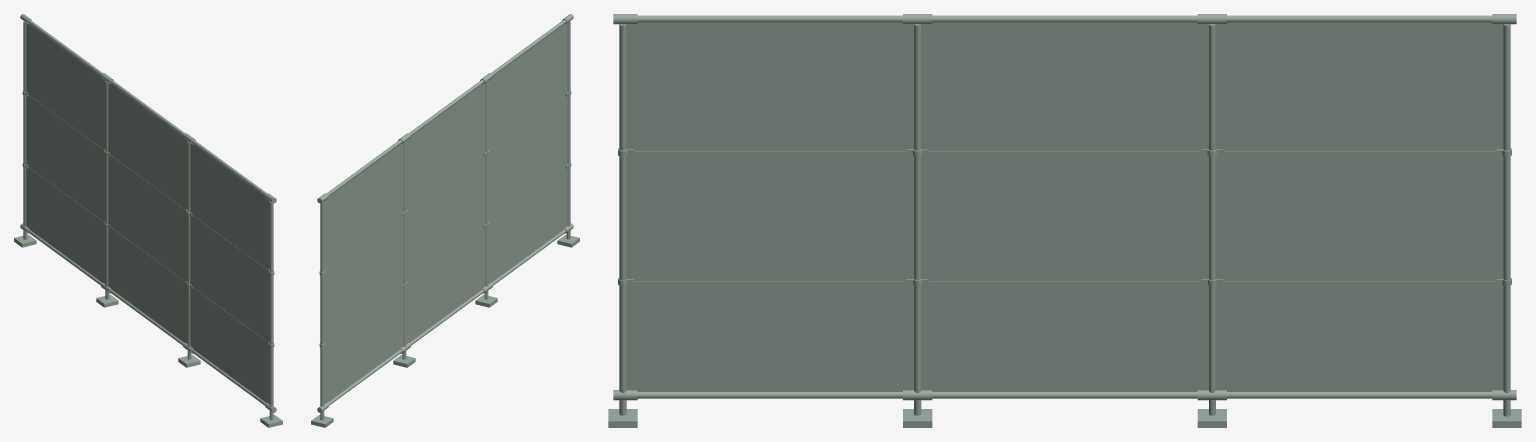
Rendered from fence.glb.
3 renders of one model, left to right at view 1: azimuth 30°, elevation 25°; view 2: azimuth 150°, elevation 25°; view 3: azimuth 270°, elevation 25°, orthographic. The views are drawn at different scales.
Parts seen in each view (by area): view 1: Object_0, Object_1, Object_2; view 2: Object_0, Object_2, Object_1; view 3: Object_0, Object_1, Object_2.
Boxes of the visible parts, x1,y1,x2,y2 form: Object_0: (64,47,230,379); Object_1: (229,167,282,427); Object_2: (14,14,66,258); Object_0: (363,47,529,379); Object_2: (311,167,364,427); Object_1: (527,14,579,258); Object_0: (770,14,1359,427); Object_1: (608,14,770,427); Object_2: (1359,14,1521,427).
Bounding box in the file's own units: 0.0645 × 0.9839 × 2.
Materials: 1 (1 with a texture image).
